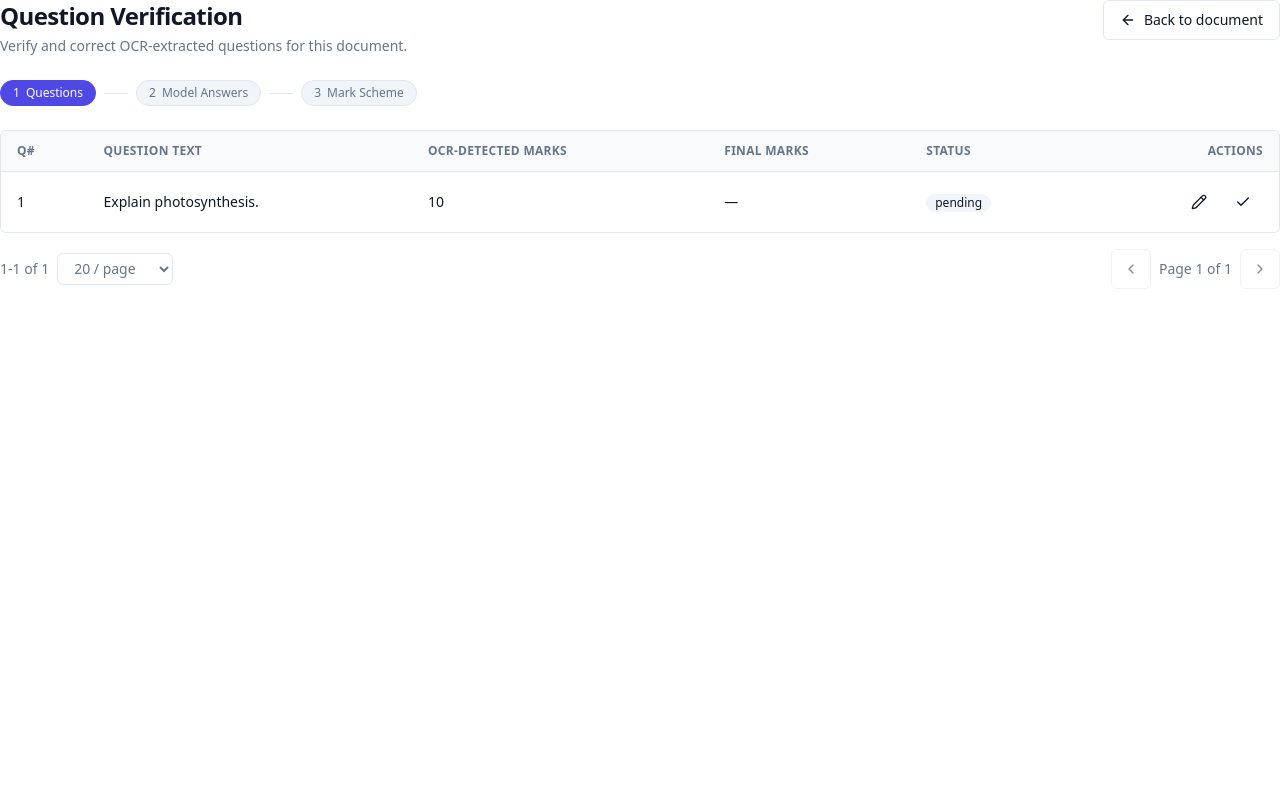
Test: QuestionVerificationPage › edits a question via the form dialog
Expected: the text "Explain photosynthesis." is shown, [88,171,412,232]
Click the button named "Edit question 1" at x=1199, y=202, box [1179,182,1219,222]
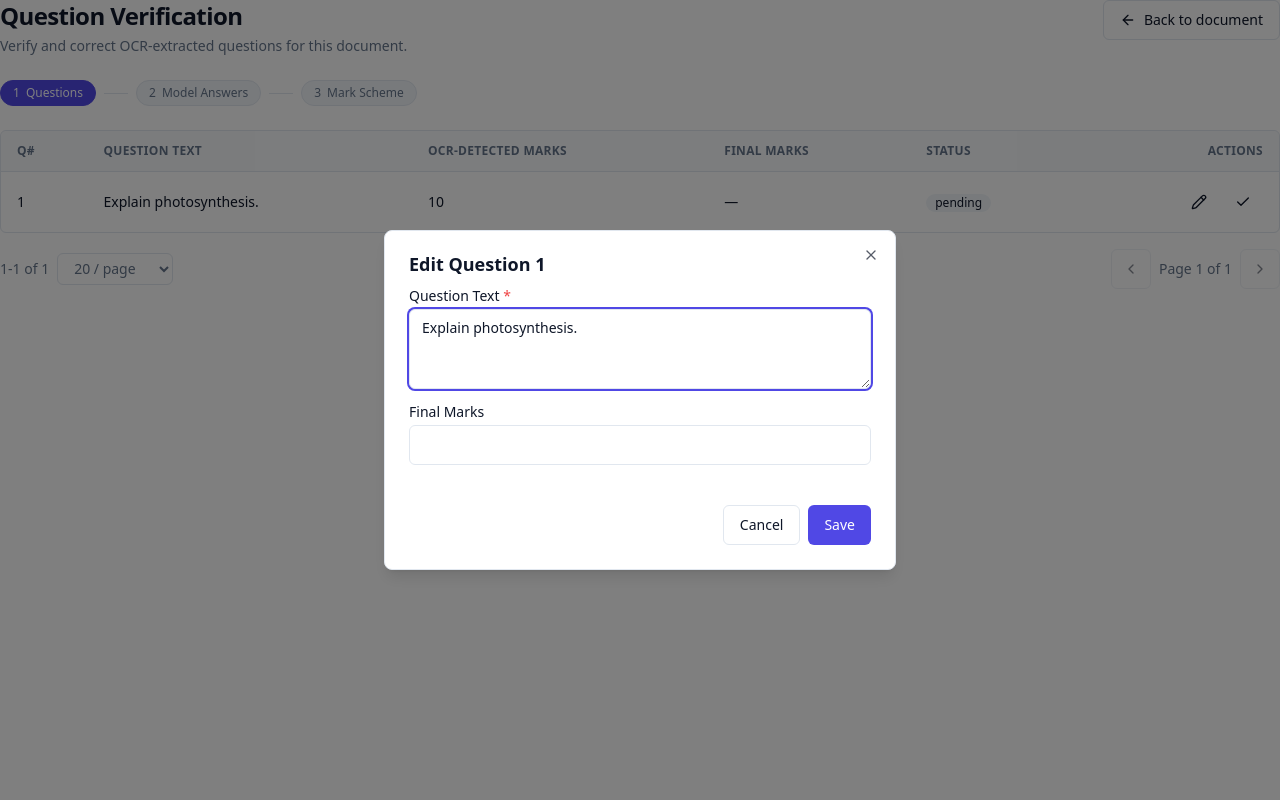
Replace the text in the text box labelled "Question Text *" with "Explain osmosis." at x=640, y=349, box [409,309,871,389]
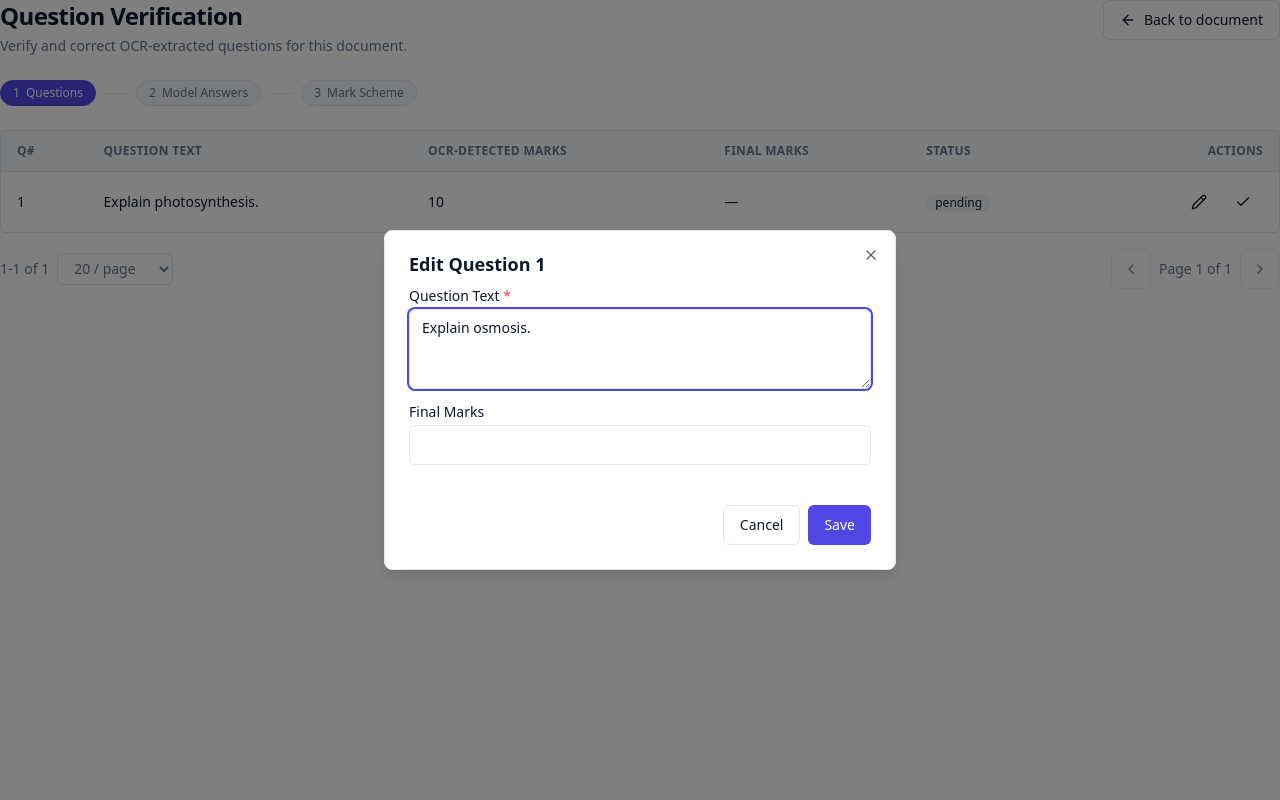
Type "8" into the number field labelled "Final Marks" at x=640, y=445, box [409,425,871,465]
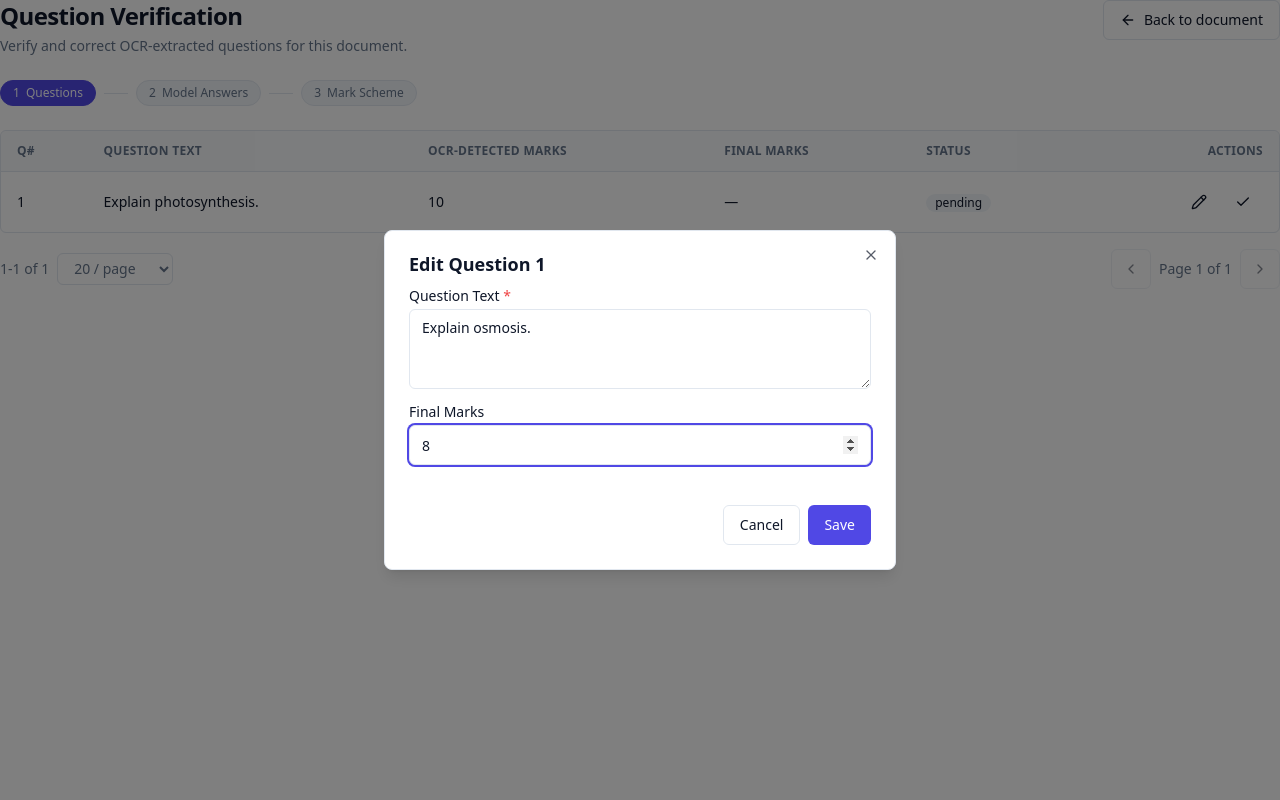
Click the button "Save" at x=840, y=525, box [808,505,871,545]
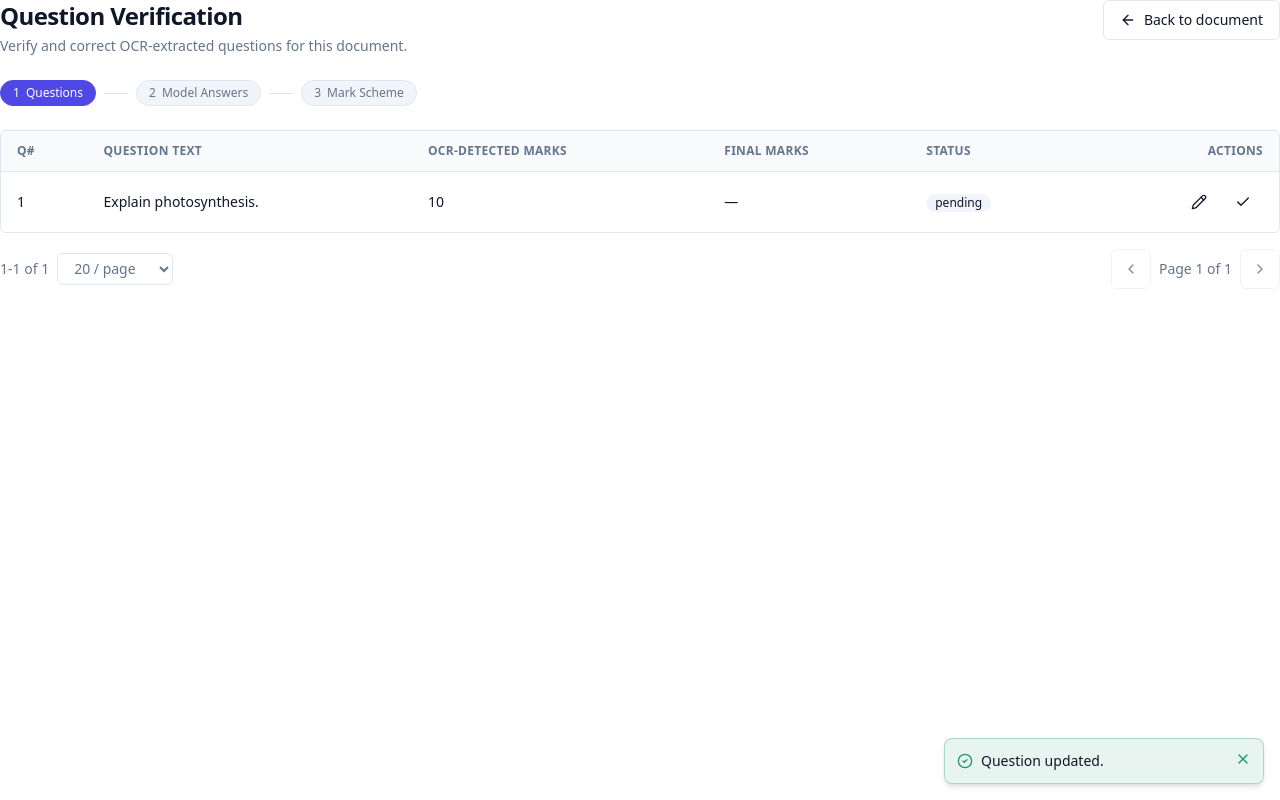
Expected: the text "Question updated." is shown, [981,751,1104,770]
